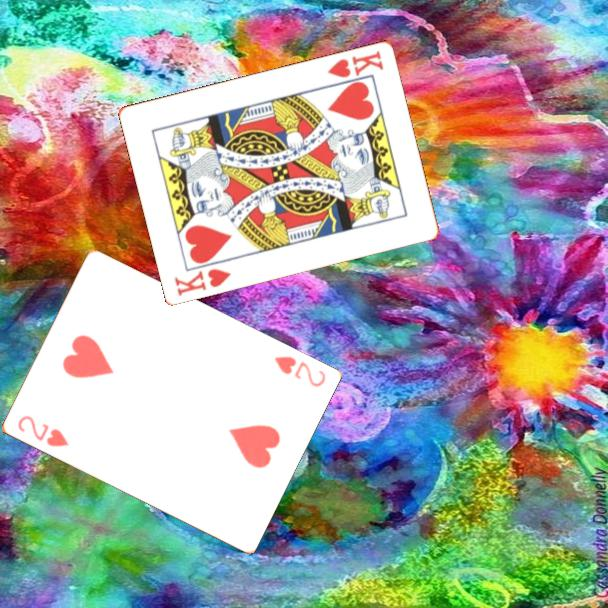h02: (14, 412, 71, 450), (270, 353, 328, 390)
h13: (171, 265, 234, 299), (324, 47, 386, 80)
